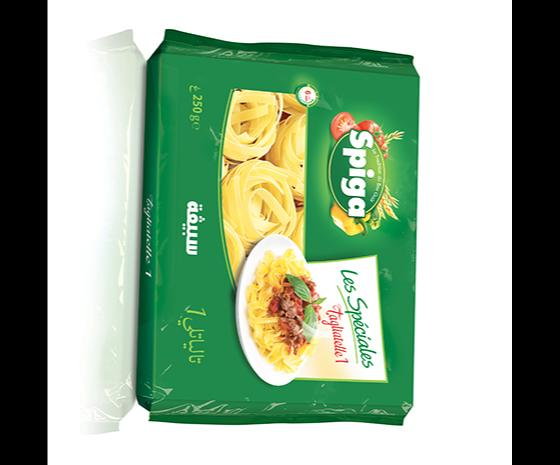Tagliatelle: (135, 37, 419, 425)
